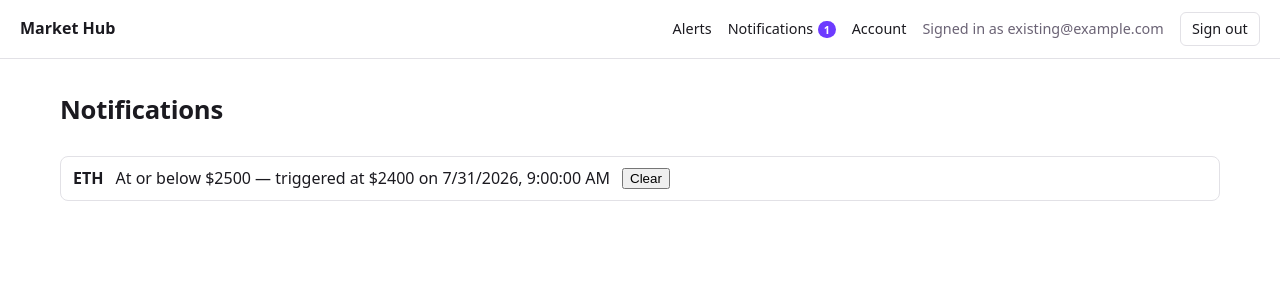
NotificationsPage › clears a notification and it disappears from the list
The width and height of the screenshot is (1280, 284).
Expected: the text "ETH" is shown, [73,167,104,190]
Click the button "Clear": [646, 178] box [622,168,670,189]
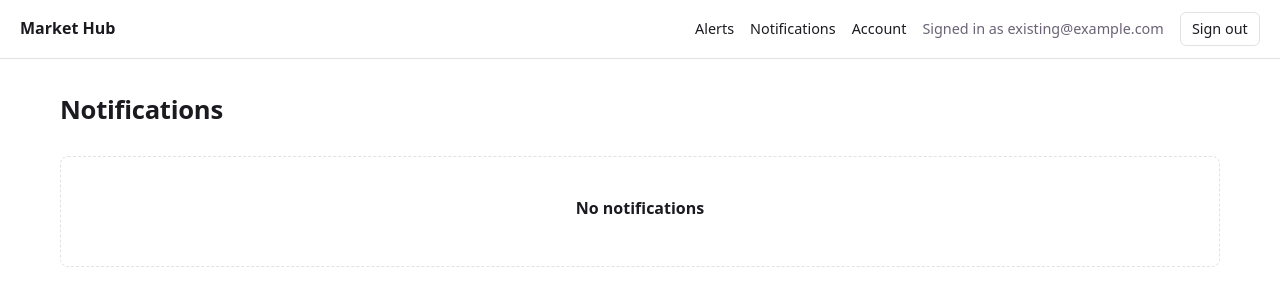
Now the text "ETH" is gone
Now the text "No notifications" is shown, box [576,197,704,219]
